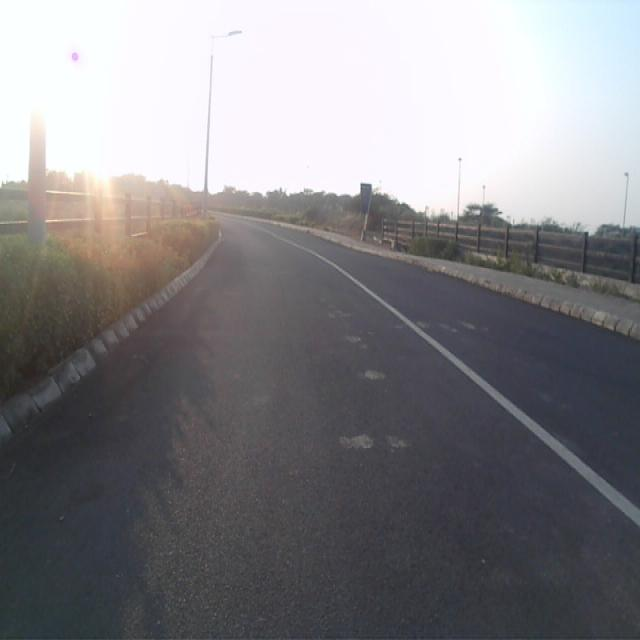lane: (0, 238, 640, 640)
